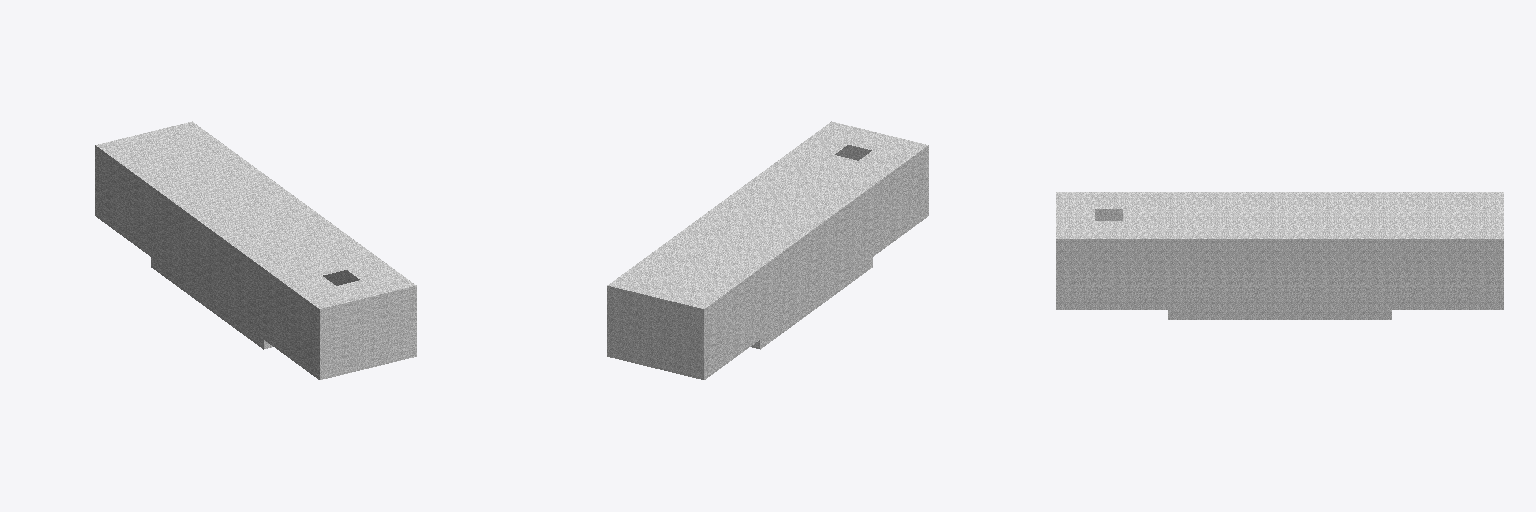
3 views of the same model, side by side, from view 1: azimuth 30°, elevation 25°; view 2: azimuth 150°, elevation 25°; view 3: azimuth 270°, elevation 25° (orthographic).
Parts seen in each view (by area): view 1: Level2.1; view 2: Level2.1; view 3: Level2.1.
Part boxes in pixels (left/top/right/bottom): Level2.1: left=95, top=121, right=416, bottom=379; Level2.1: left=607, top=121, right=928, bottom=379; Level2.1: left=1056, top=192, right=1503, bottom=319.
Bounding box in the file's own units: 10 × 8 × 40.
1 materials, 1 textured.